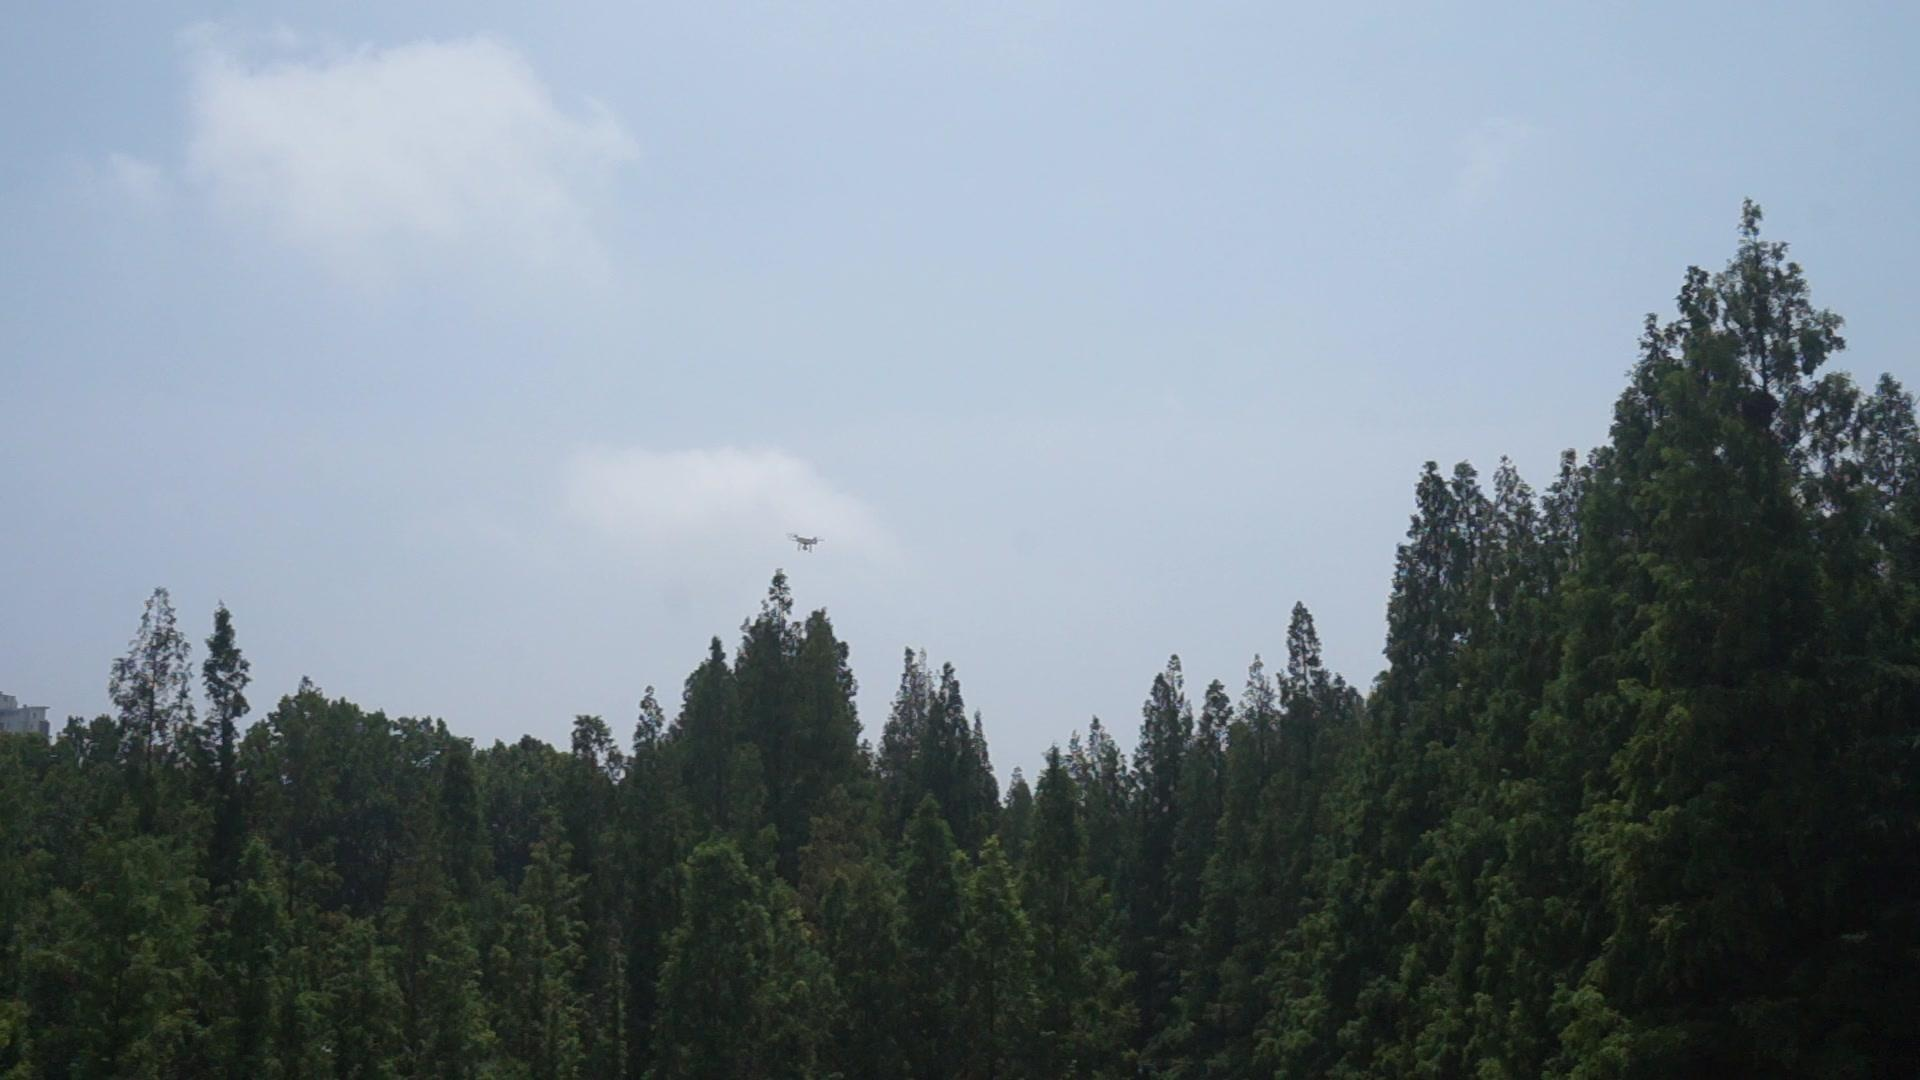UAV: (793, 535, 825, 554)
